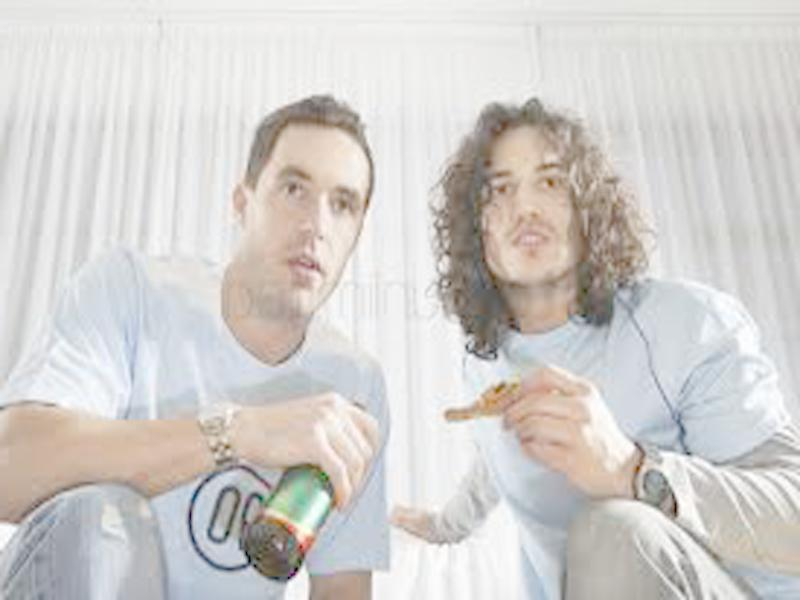Beer: (238, 400, 366, 584)
